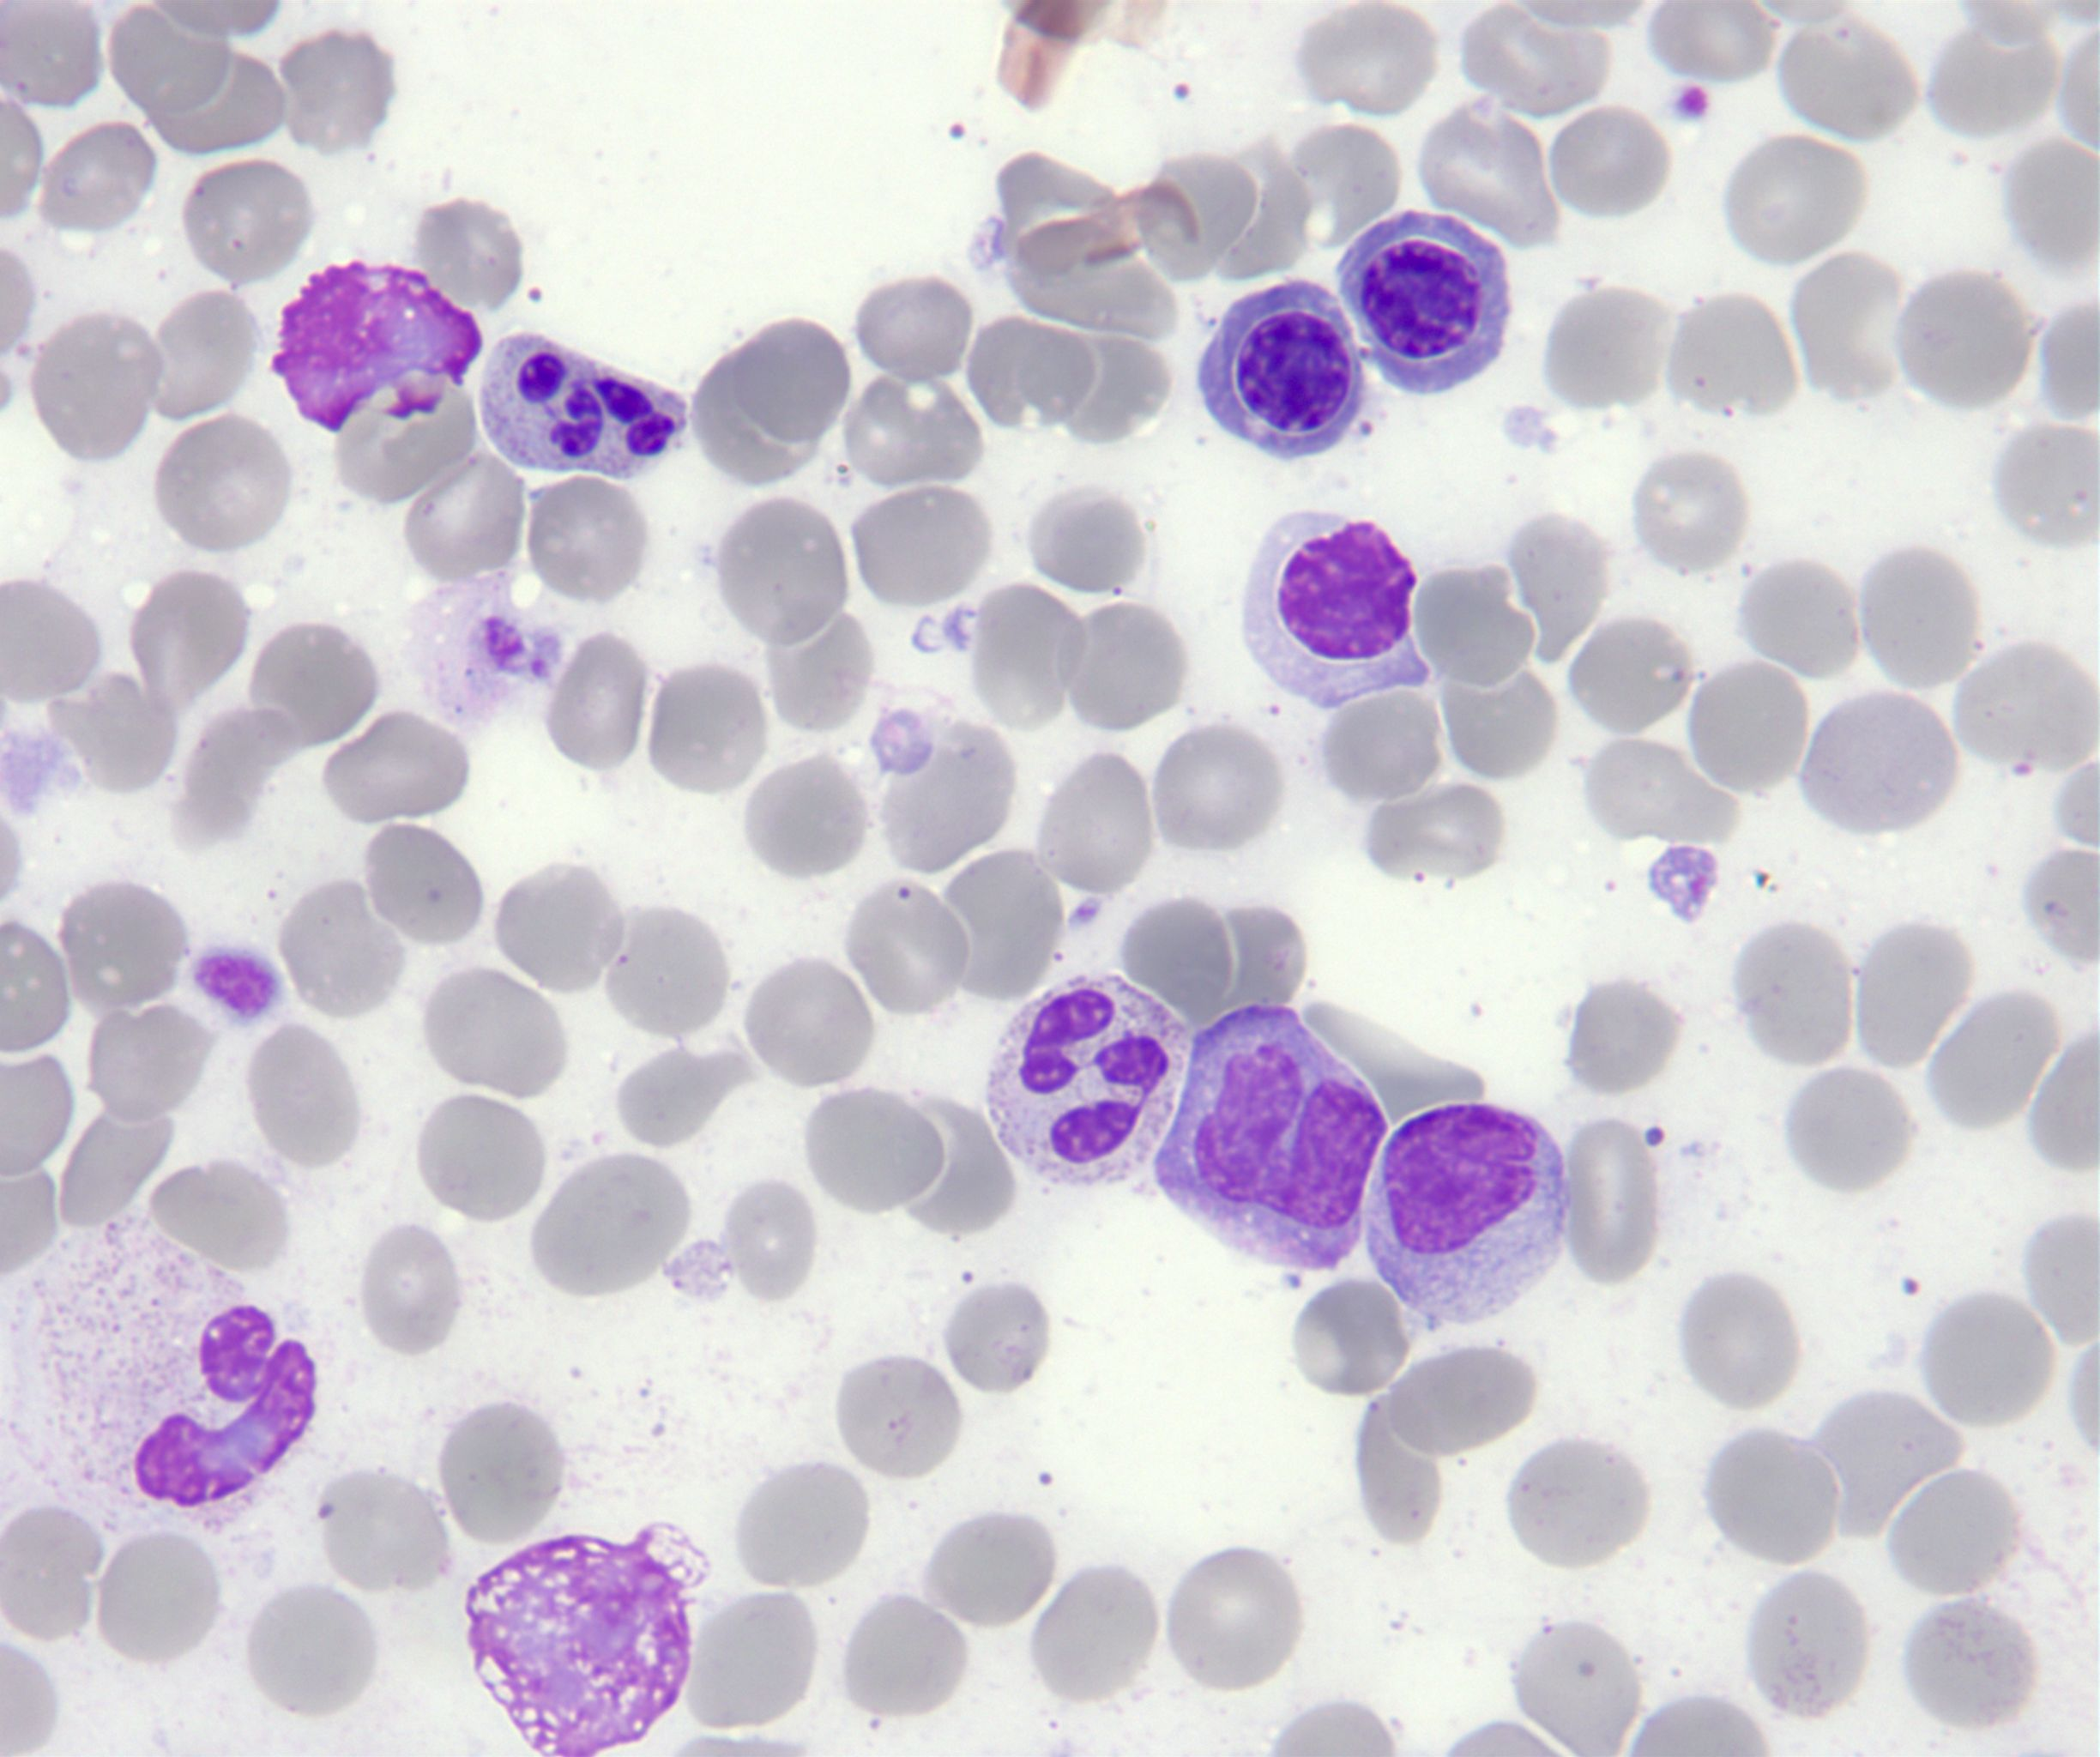23: (1338, 211, 1509, 396), (1197, 283, 1364, 459)
32: (1244, 515, 1432, 708)
42: (1153, 1005, 1388, 1270), (1364, 1104, 1566, 1321)
6: (7, 1206, 316, 1528), (989, 972, 1193, 1186), (478, 335, 689, 482)
x: (467, 1523, 713, 1757), (270, 262, 481, 436)
